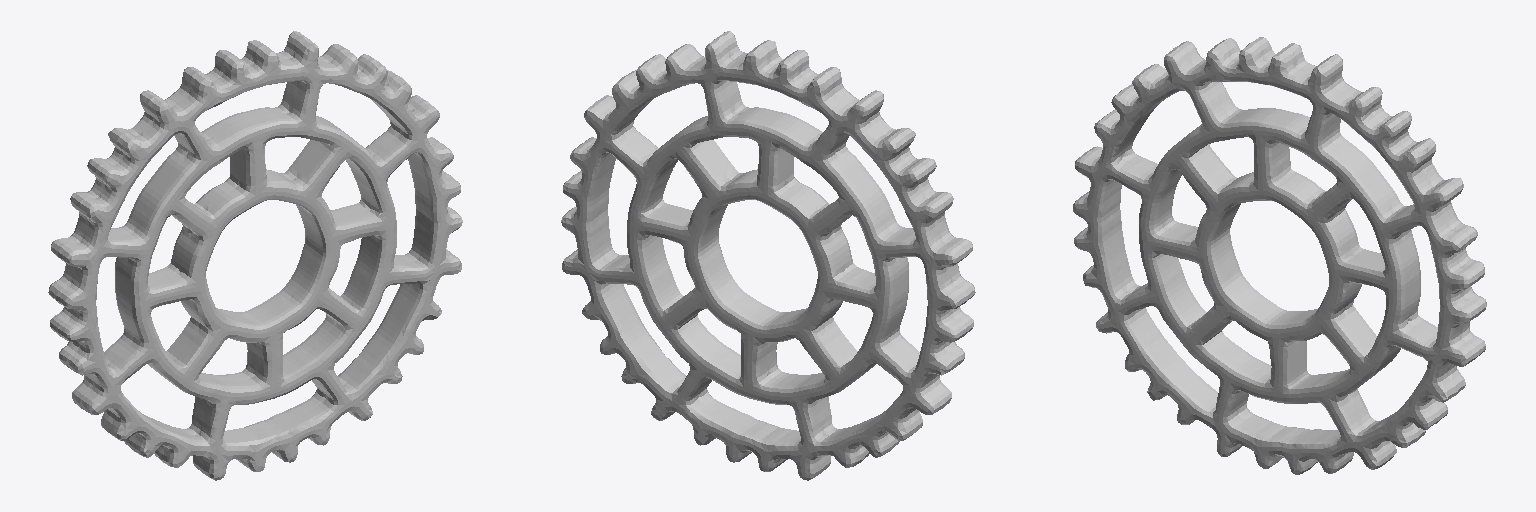
The model's file is Engrane 2.OBJ.
3 renders of one model, left to right at view 1: azimuth 30°, elevation 25°; view 2: azimuth 150°, elevation 25°; view 3: azimuth 330°, elevation 25°, orthographic.
Visible parts, largest first — view 1: Group27866; view 2: Group27866; view 3: Group27866.
Part boxes in pixels (left/top/right/bottom): Group27866: left=48, top=31, right=462, bottom=480; Group27866: left=561, top=31, right=975, bottom=480; Group27866: left=1073, top=37, right=1486, bottom=474.
Bounding box in the file's own units: 1.62 × 1.62 × 0.1536.